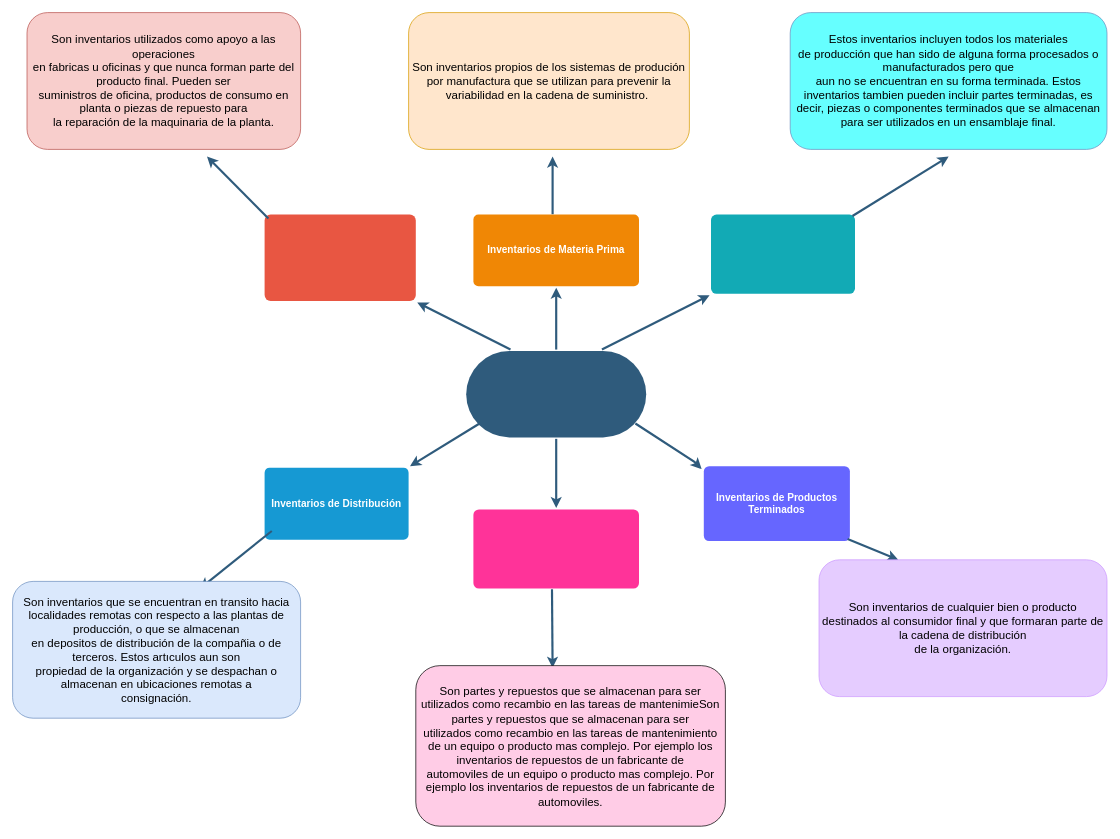
The diagram is 1120 pixels wide and 839 high, and some of its shapes have lost their labels. Here are the shapes that lost their labels. From the top down, the centre of each, then its label:
At (x=339, y=257): "Inventaarios de Suministros".
At (x=783, y=253): "Inventarios de Trabajo en Proceso".
At (x=556, y=394): "TIPOS DE INVENTARIOS".
At (x=556, y=548): "Inventarios de Partes de Servicio".
